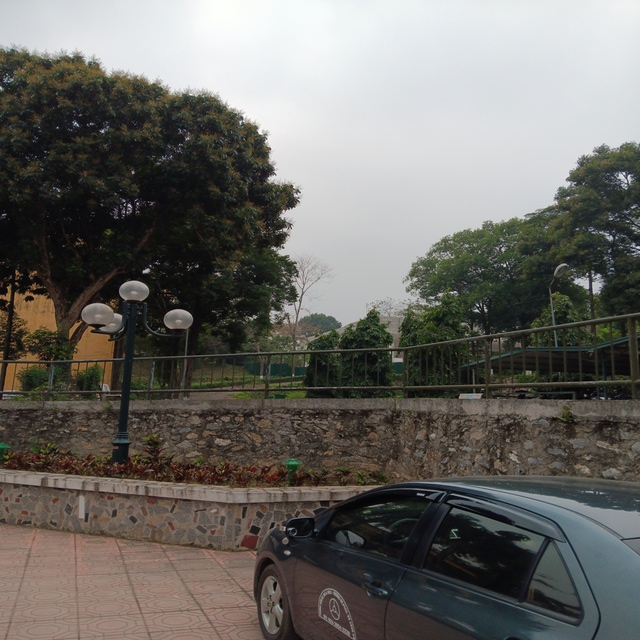cotden: (69, 270, 201, 469)
